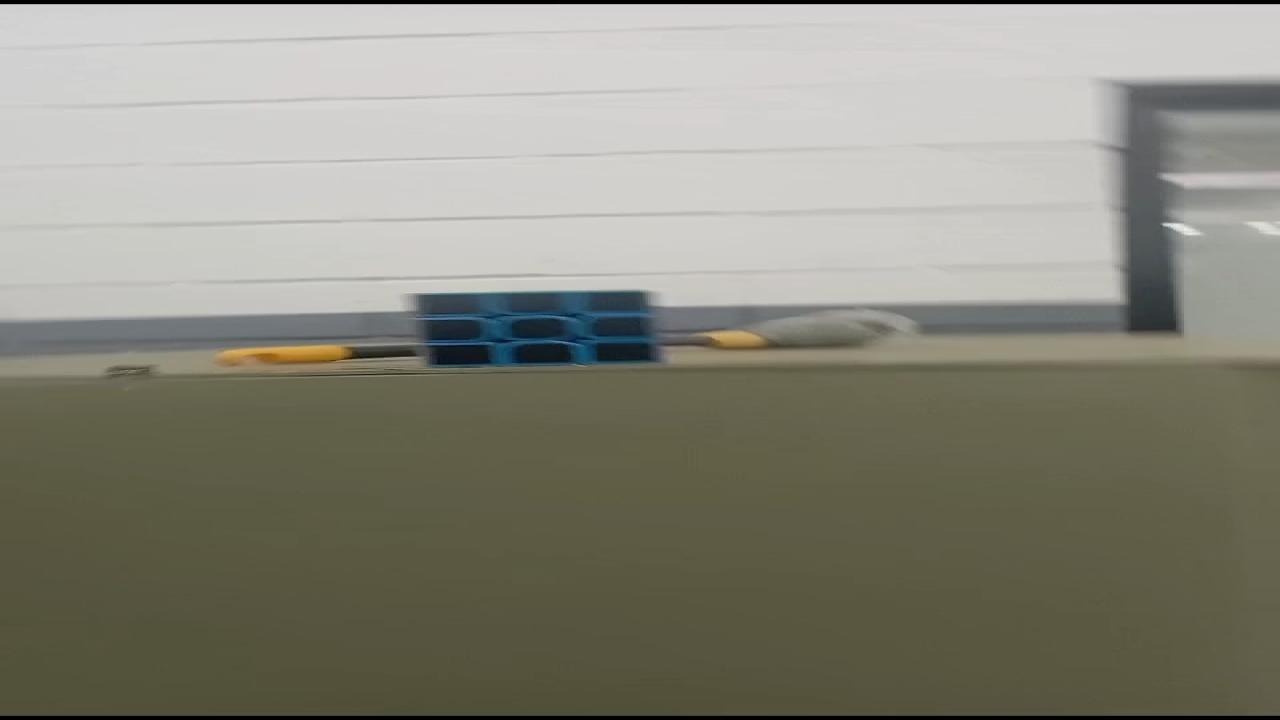Cube: (400, 288, 664, 368)
